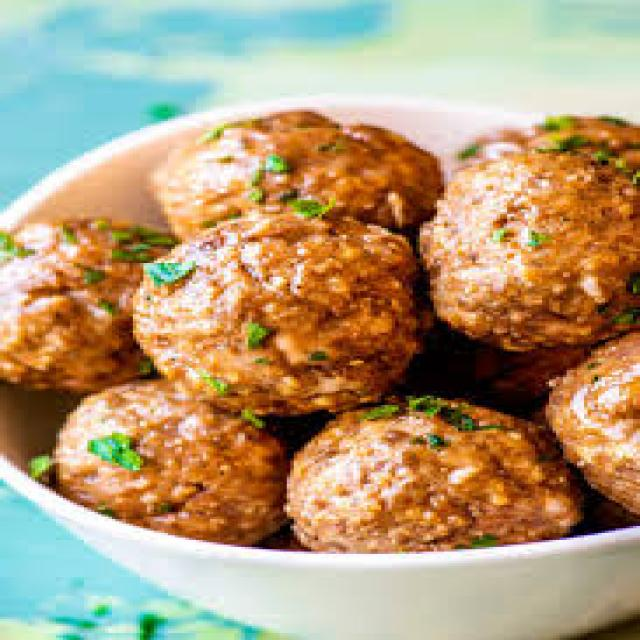Meatball: (126, 207, 434, 420), (407, 143, 640, 362), (274, 392, 574, 558), (131, 91, 457, 238), (47, 380, 298, 544), (0, 211, 178, 374)
